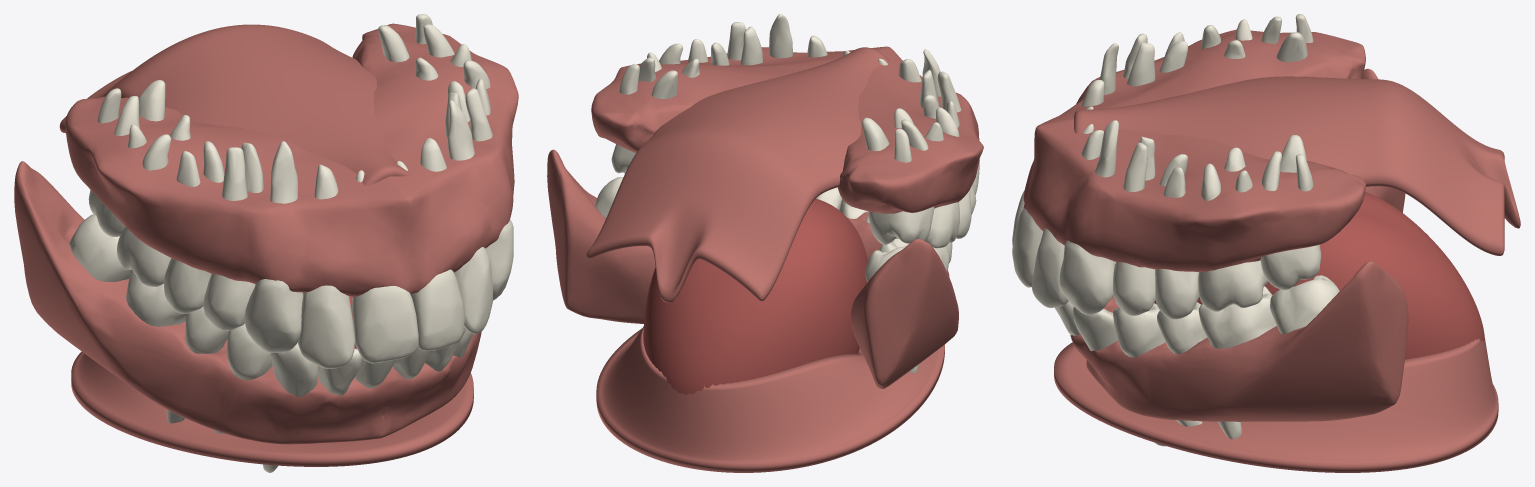
The model's file is oral-unit.glb.
3 views of the same model, side by side, from view 1: azimuth 30°, elevation 25°; view 2: azimuth 150°, elevation 25°; view 3: azimuth 270°, elevation 25° (orthographic). The views are drawn at different scales.
Parts seen in each view (by area): view 1: UPPER_GINGIVA, UPPER_DENTITION, LOWER_GINGIVA, PALATE, ORAL_FLOOR, LOWER_DENTITION; view 2: PALATE, ORAL_FLOOR, TONGUE, UPPER_GINGIVA, LOWER_GINGIVA, UPPER_DENTITION, LOWER_DENTITION; view 3: UPPER_GINGIVA, PALATE, LOWER_GINGIVA, UPPER_DENTITION, ORAL_FLOOR, TONGUE, LOWER_DENTITION.
Boxes of the visible parts, x1,y1,x2,y2 form: UPPER_GINGIVA: (65,23,518,296); UPPER_DENTITION: (88,14,513,368); LOWER_GINGIVA: (14,161,481,444); PALATE: (59,24,410,185); ORAL_FLOOR: (71,351,473,466); LOWER_DENTITION: (69,214,472,472); PALATE: (586,47,889,302); ORAL_FLOOR: (596,327,944,472); TONGUE: (643,199,867,394); UPPER_GINGIVA: (591,46,983,213); LOWER_GINGIVA: (547,149,958,388); UPPER_DENTITION: (611,14,979,248); LOWER_DENTITION: (595,177,952,372); UPPER_GINGIVA: (1023,29,1365,272); PALATE: (1074,76,1520,255); LOWER_GINGIVA: (1070,68,1408,421); UPPER_DENTITION: (1012,14,1321,319); ORAL_FLOOR: (1054,338,1498,472); TONGUE: (1154,192,1484,359); LOWER_DENTITION: (1055,261,1339,446).
Size of the model in its own units: 0.0735 by 0.0581 by 0.0778.
